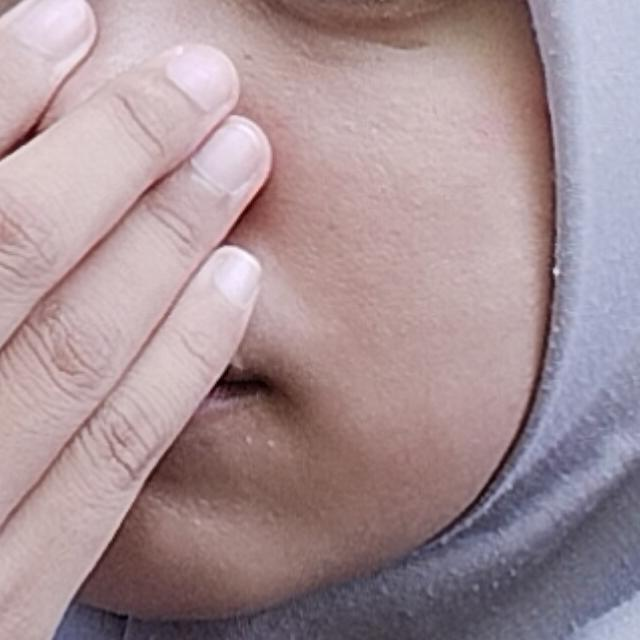tolong: (0, 0, 390, 640)
